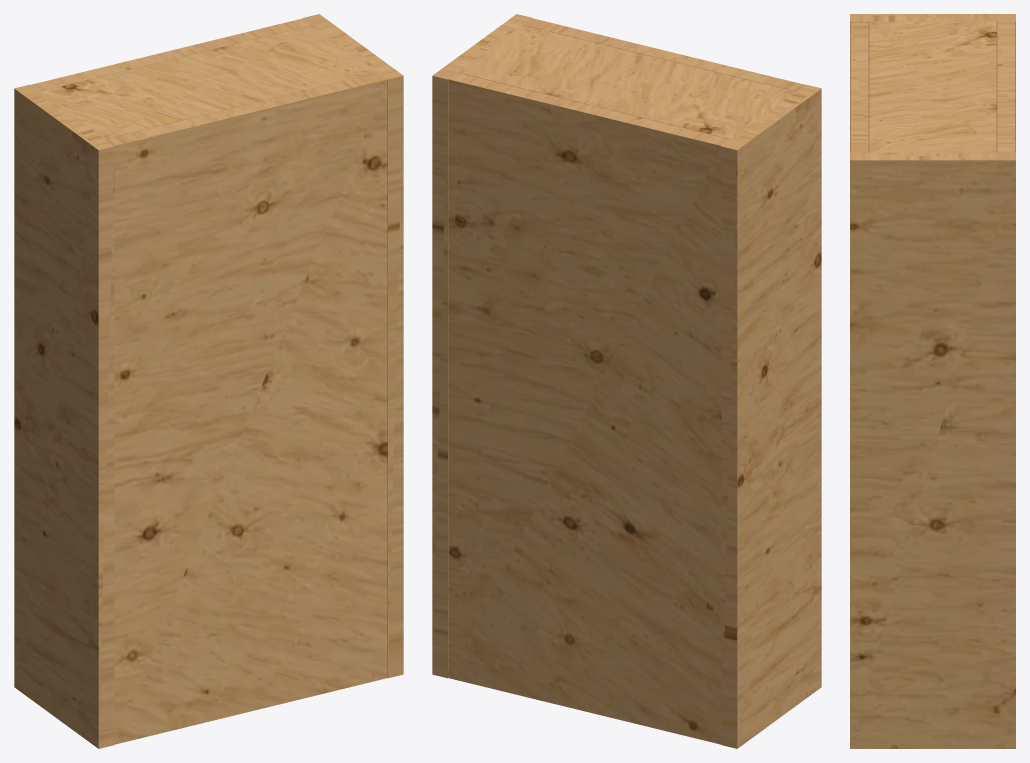
File: crate-box-final.glb
3 views of the same model, side by side, from view 1: azimuth 30°, elevation 25°; view 2: azimuth 150°, elevation 25°; view 3: azimuth 270°, elevation 25° (orthographic).
Parts seen in each view (by area): view 1: box_front, box_side_L, box_top, box_side_R, box_back; view 2: box_back, box_side_L, box_top, box_side_R, box_front; view 3: box_side_R, box_top, box_back, box_front, box_side_L.
Boxes of the visible parts, bbox=[...] form: box_front: bbox=[105, 72, 387, 744]; box_side_L: bbox=[14, 84, 114, 748]; box_top: bbox=[40, 25, 377, 139]; box_side_R: bbox=[304, 14, 403, 678]; box_back: bbox=[31, 18, 312, 91]; box_back: bbox=[448, 72, 730, 744]; box_side_L: bbox=[721, 84, 821, 748]; box_top: bbox=[458, 25, 795, 139]; box_side_R: bbox=[432, 14, 531, 678]; box_front: bbox=[523, 18, 804, 91]; box_side_R: bbox=[850, 152, 1015, 748]; box_top: bbox=[869, 21, 996, 152]; box_back: bbox=[997, 21, 1015, 152]; box_front: bbox=[850, 21, 868, 152]; box_side_L: bbox=[850, 14, 1015, 152].
Size of the model in its own units: 0.96 by 1.8 by 0.46.
1 material, 1 textured.
